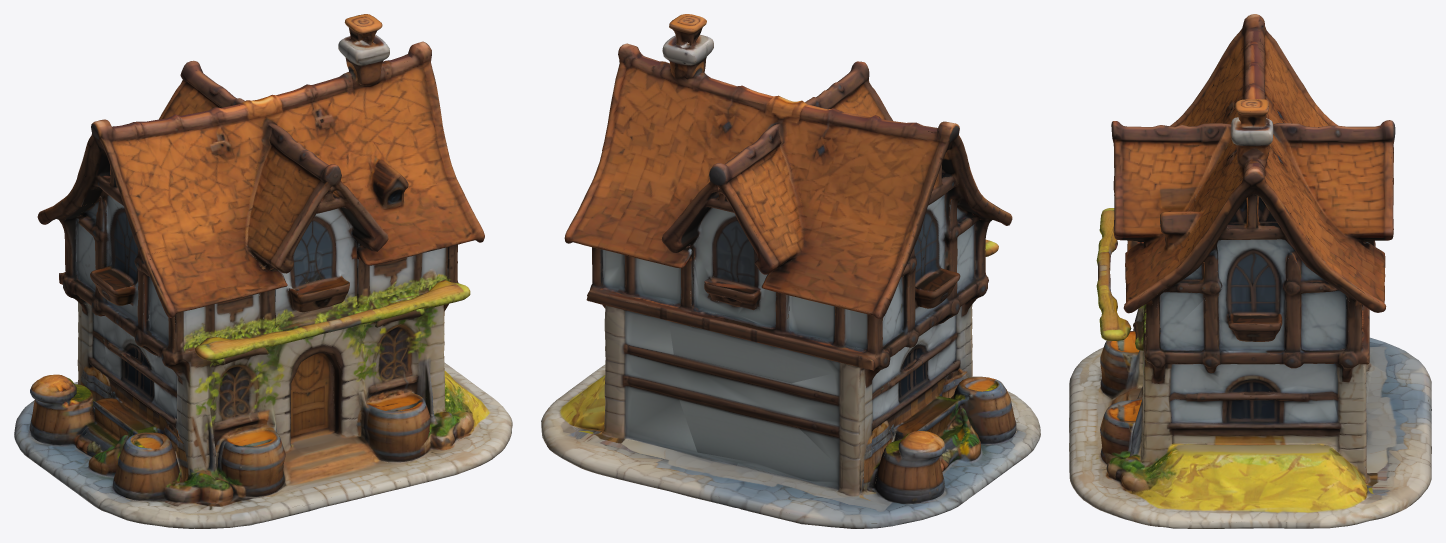
The model's file is keeper_house_game.glb.
3 views of the same model, side by side, from view 1: azimuth 30°, elevation 25°; view 2: azimuth 150°, elevation 25°; view 3: azimuth 270°, elevation 25° (orthographic). The views are drawn at different scales.
Parts seen in each view (by area): view 1: model_0; view 2: model_0; view 3: model_0.
Boxes of the visible parts, box(x1,y1,x2,y2) form: model_0: box(14, 14, 512, 528); model_0: box(541, 14, 1040, 528); model_0: box(1069, 14, 1431, 528).
Bounding box in the file's own units: 1 × 0.9074 × 0.7919.
Materials: 1 (1 with a texture image).
